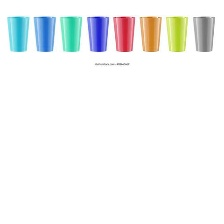glass: (190, 14, 219, 54), (4, 13, 32, 54), (31, 14, 59, 54), (163, 12, 191, 52), (112, 12, 138, 55), (57, 12, 82, 54), (85, 12, 109, 54), (138, 14, 163, 54)
